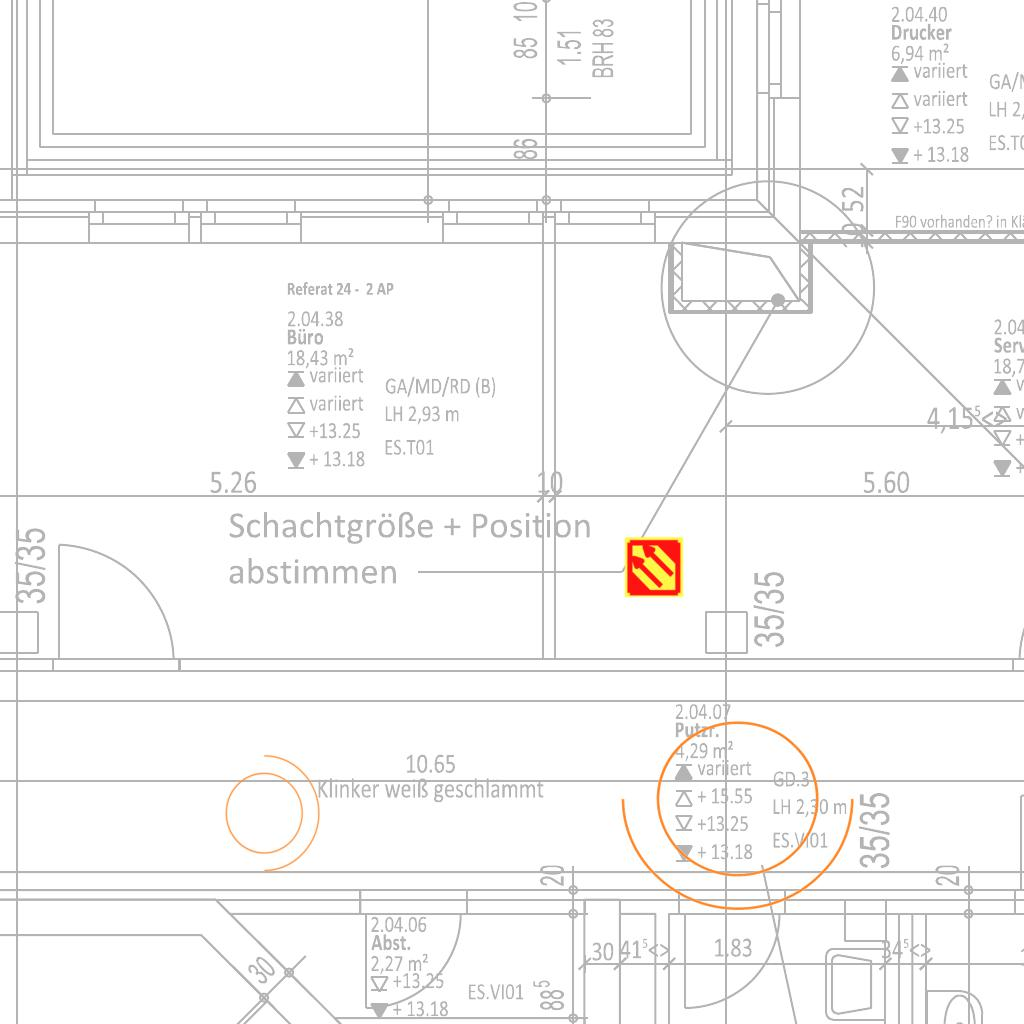ASR_Ansaugrauchmelder: (623, 536, 685, 598)
Scheinwerfer_fuer_Alarmbeleuchtung: (612, 696, 876, 921), (213, 744, 325, 876)
